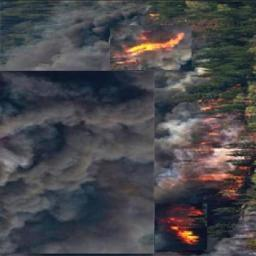Heavy smoke: (0, 0, 256, 256)
Small fire: (110, 32, 188, 55), (165, 203, 202, 244)
